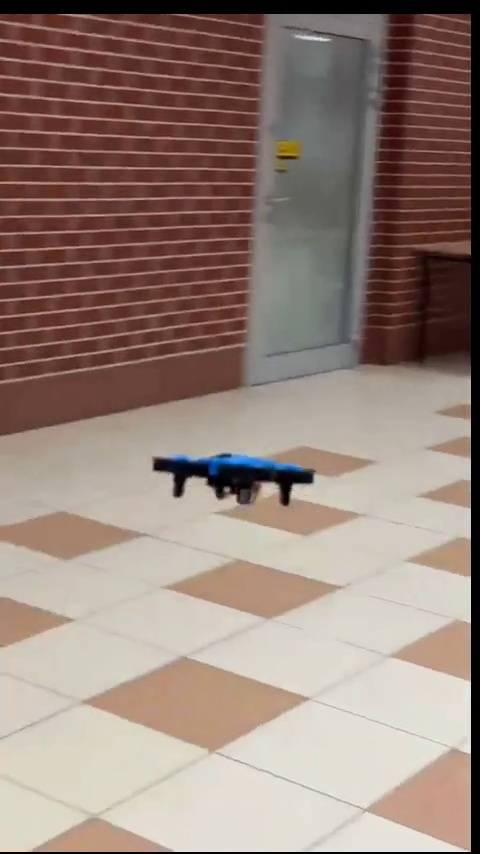drone: (153, 452, 319, 516)
